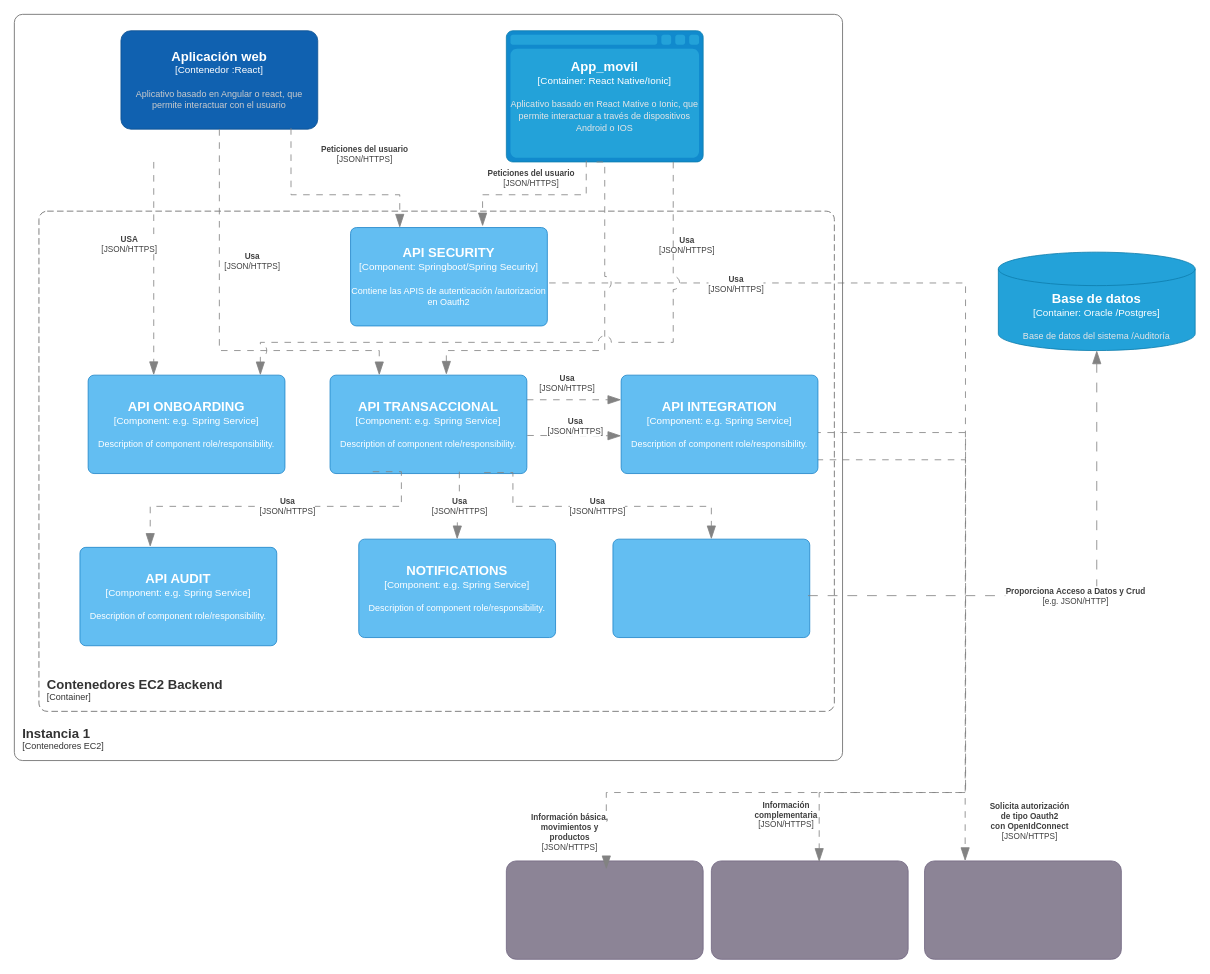
Some shapes in this 1210 by 974 pixel diagram are drawn without their labels. The centre of each missing label's shape, as x and y in pixels:
"API DATA [Component: Hibernate/Jpa] Componente de Control de Persistencia" belongs at point (711, 588).
"Plataforma Core [Sistema] inf. Báscia, movimientos y productos" belongs at point (604, 909).
"Servidor de autenticación [Software System] Servidor de Autenticación Oauth2" belongs at point (1022, 909).
"Sistema de Información complementaria [Software System] Información detallada" belongs at point (809, 909).
